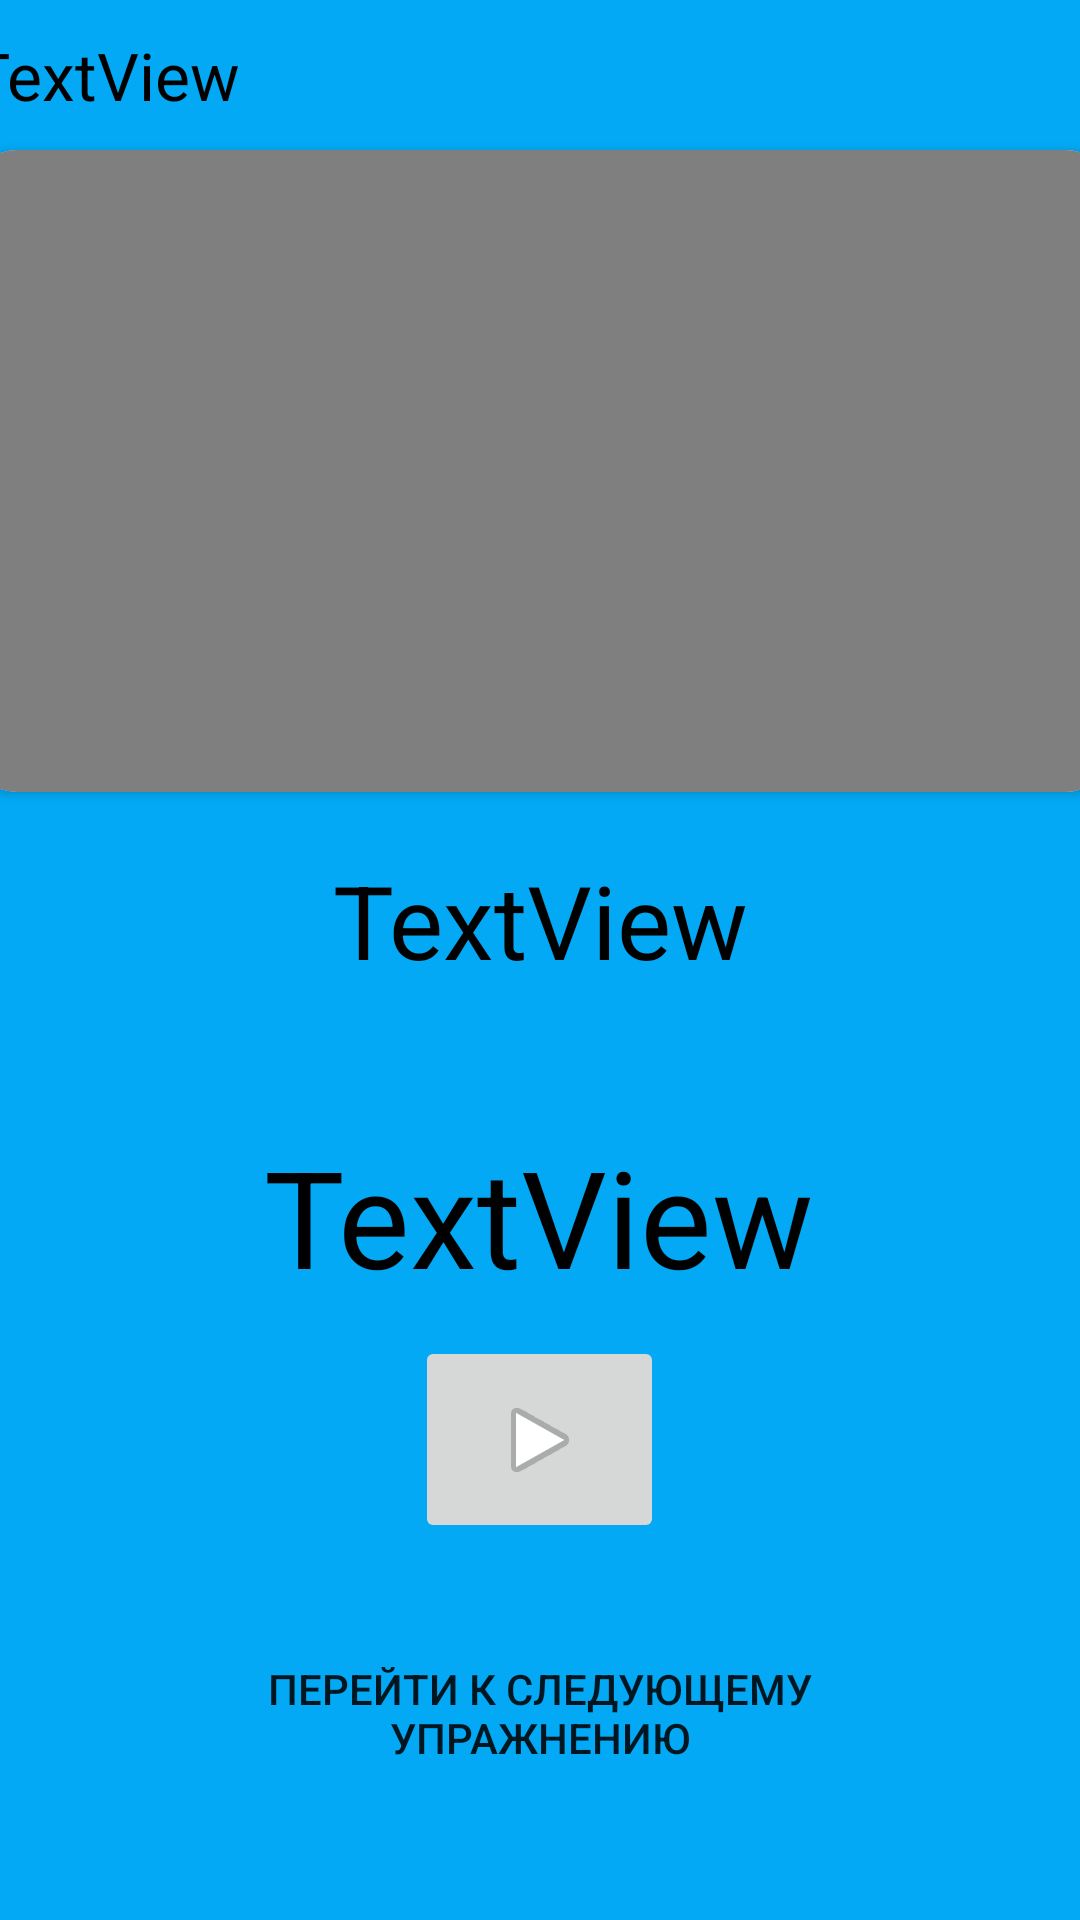

Locate icon controls on the screen. Image size 1080×1920, boxes as [x1,y1,x2,y2].
play: [427,1354,652,1525]
